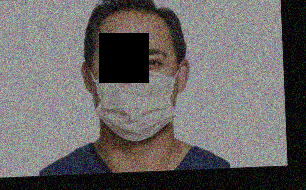with_mask: (91, 44, 177, 140)
